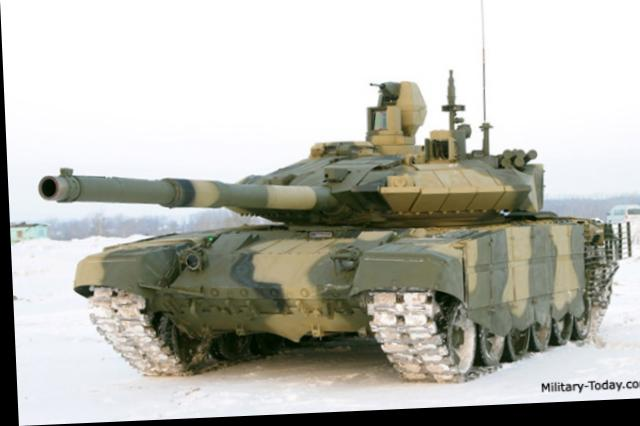tank: (68, 84, 607, 371)
